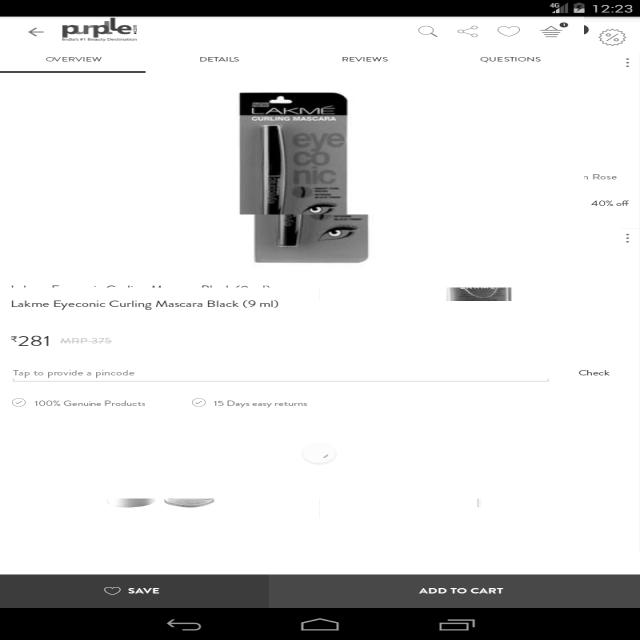Button: (262, 572, 637, 612), (4, 570, 254, 612)
ImageButton: (593, 26, 629, 47), (489, 21, 526, 39), (612, 52, 640, 74), (451, 22, 484, 40), (538, 22, 570, 40), (613, 230, 637, 250), (414, 24, 440, 39), (24, 23, 46, 39)
ImageView: (232, 85, 374, 269), (93, 486, 234, 520), (432, 276, 522, 308), (49, 17, 149, 41)
TextView: (6, 294, 284, 310), (31, 393, 149, 410), (474, 51, 546, 65), (10, 330, 55, 350), (334, 51, 396, 64), (193, 51, 244, 66)
